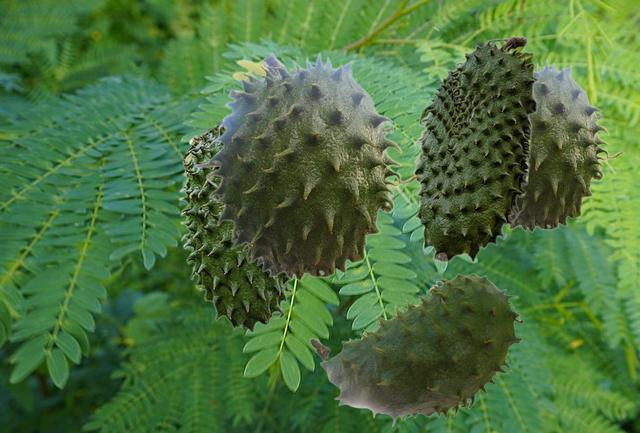guyabano: (194, 50, 422, 281), (309, 273, 522, 426), (412, 35, 538, 262), (178, 122, 294, 332), (505, 57, 624, 232)
